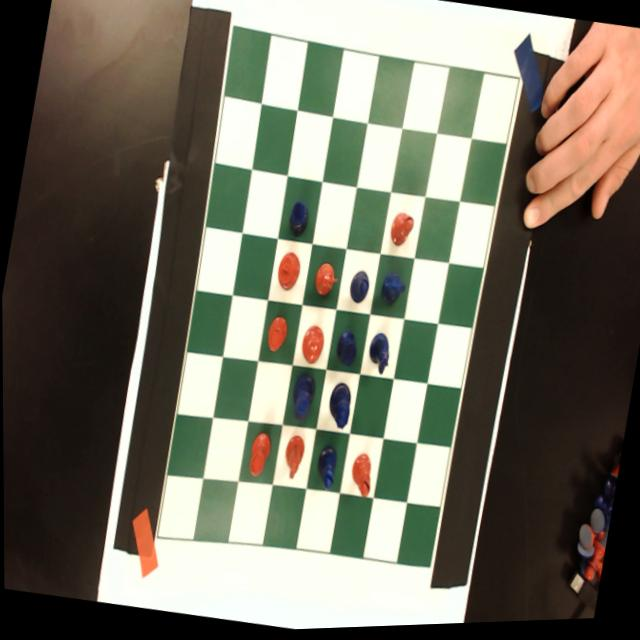B: (312, 447, 339, 494), (345, 269, 371, 309)
K: (286, 371, 318, 428)
N: (375, 266, 411, 317), (362, 329, 395, 381)
Q: (323, 381, 355, 436)
R: (332, 331, 360, 370), (285, 200, 311, 242)
b: (346, 454, 375, 500), (387, 213, 415, 251)
k: (274, 250, 303, 297)
n: (279, 433, 306, 484), (310, 262, 339, 302)
q: (298, 326, 325, 368)
r: (245, 430, 273, 482), (263, 315, 289, 357)
